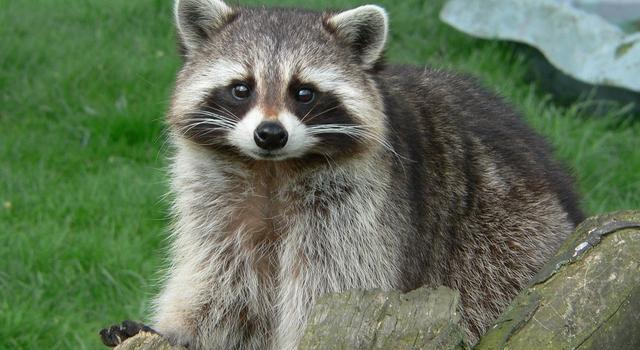raccoon: (90, 1, 579, 350)
